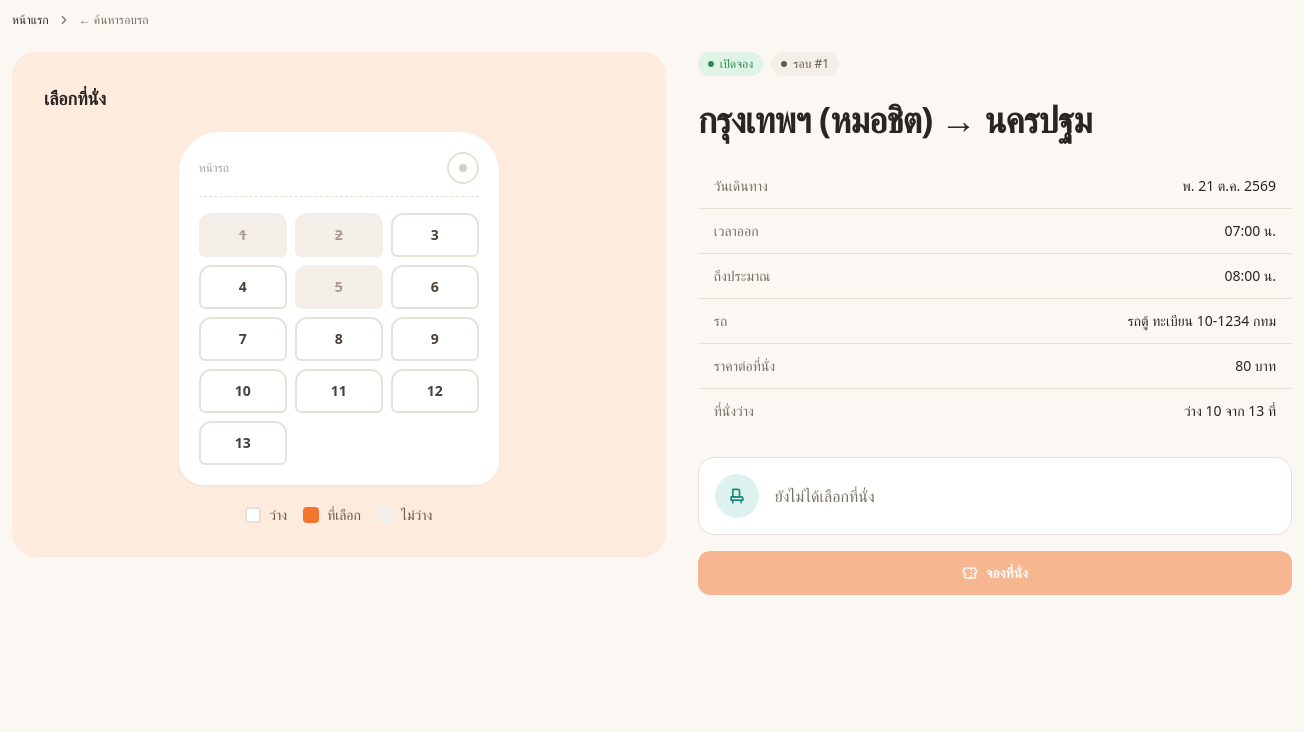
Test: สด: ที่นั่งที่เราเลือกไว้ถูกคนอื่นจองไป → ตัดออกจากที่เลือก และเตือน
What coordinates should you click on to do the following:
click the button named "ที่นั่ง 4"
I would click on:
 (243, 287)
Its box is [199,265,287,309].
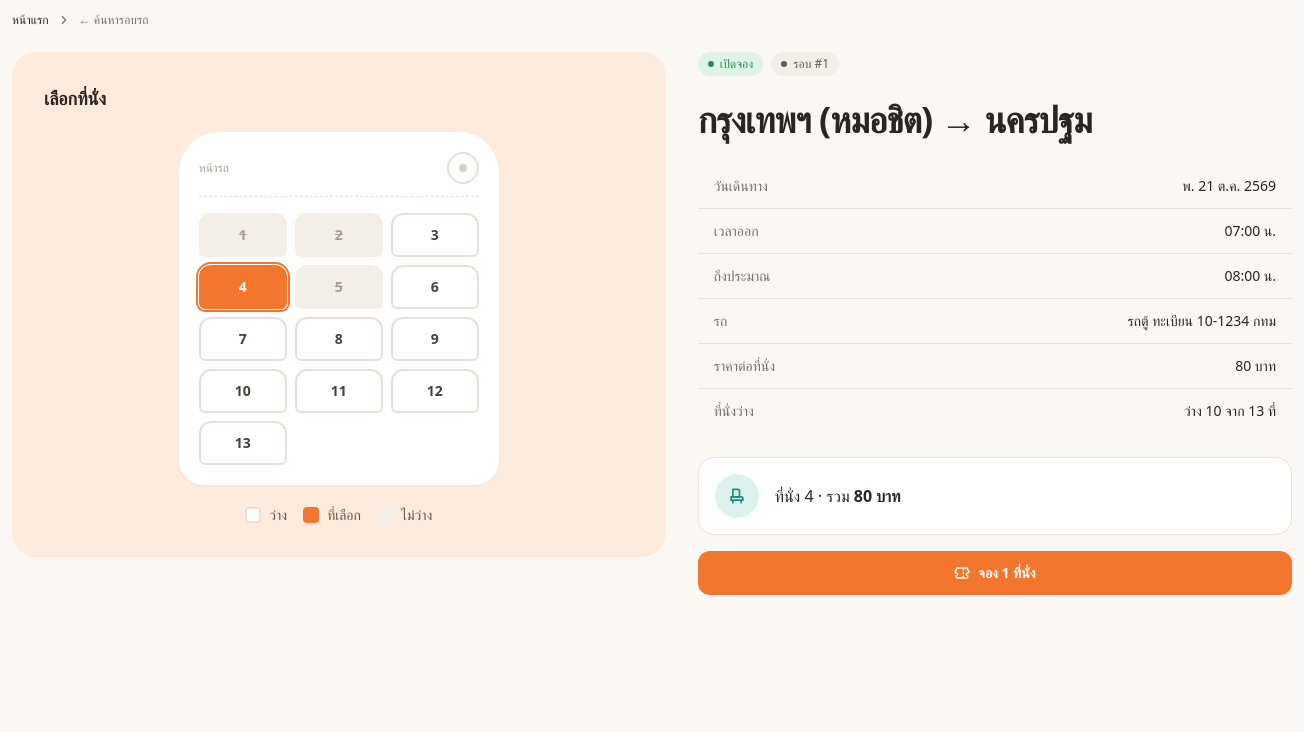
What coordinates should you click on to do the following:
click the button named "ที่นั่ง 6"
I would click on:
 (435, 287)
Its box is [391,265,479,309].
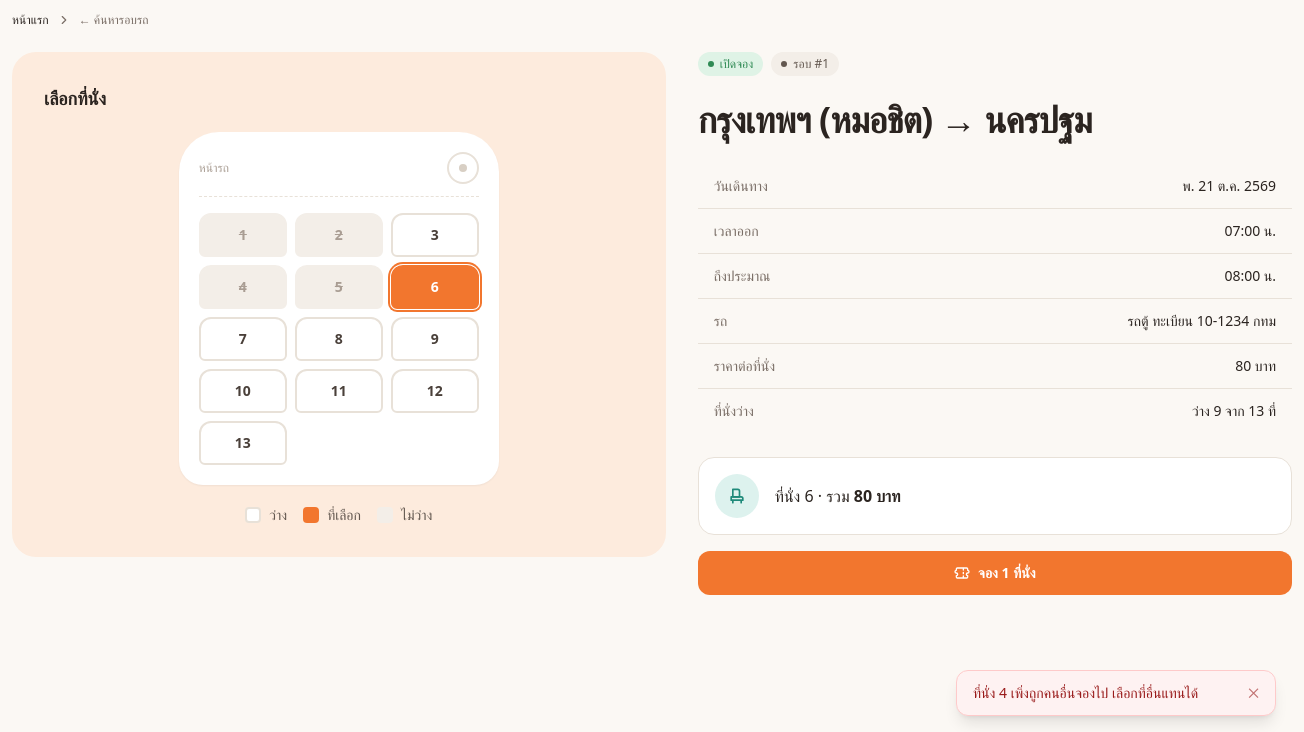
Now the button "จอง 1 ที่นั่ง" is enabled, box [698,551,1292,595]
Now the text "ที่นั่ง 4 เพิ่งถูกคนอื่นจองไป เลือกที่อื่นแทนได้" is shown, box [973,683,1198,702]
Now the button named "ที่นั่ง 4 ไม่ว่าง" is disabled, box [199,265,287,309]
